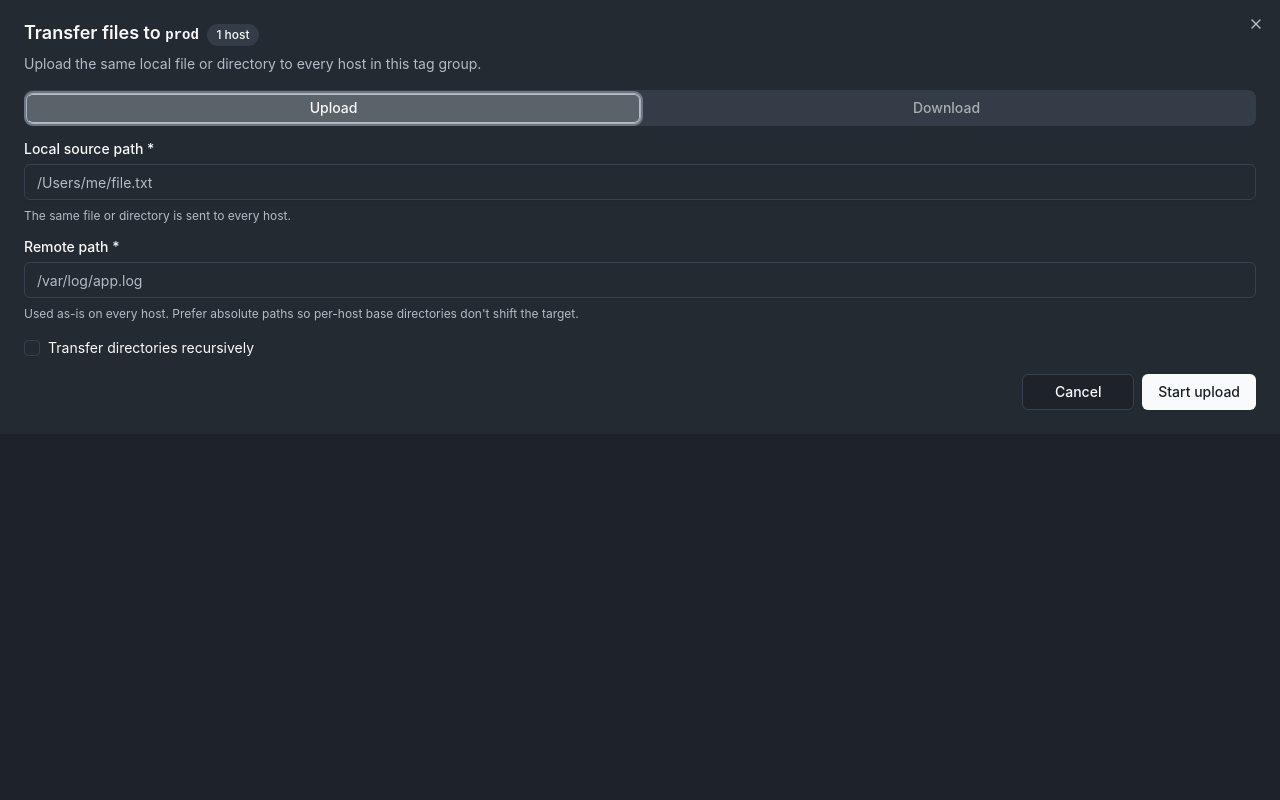
BulkScpDialog Stop › keeps the usual summary when nothing was stopped
Type "/l" into the field with test id "bulk-scp-local-path".
click(640, 182); type("/l")  # box [24,164,1256,200]
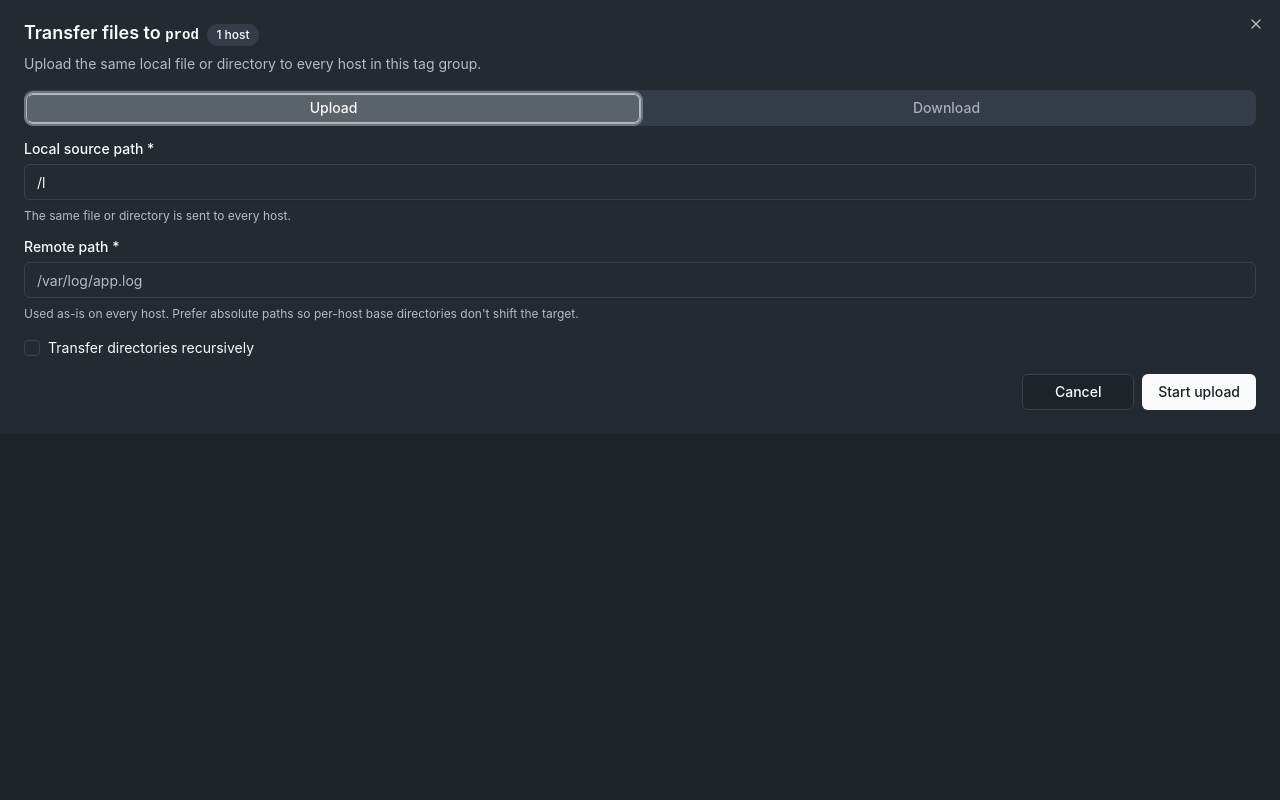
Type "/r" into the field with test id "bulk-scp-remote-path".
click(640, 280); type("/r")  # box [24,262,1256,298]
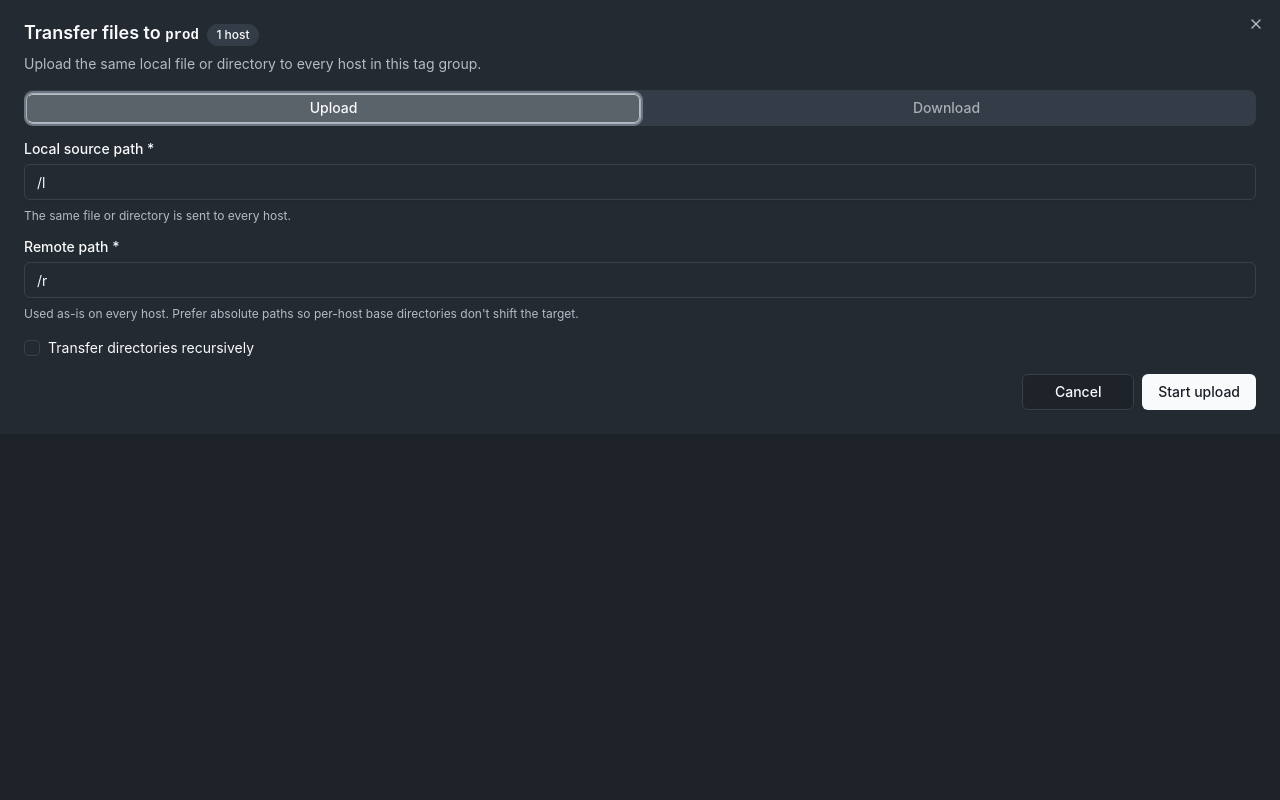
Click the button with test id "bulk-scp-start".
click(1199, 392)  # box [1142,374,1256,410]
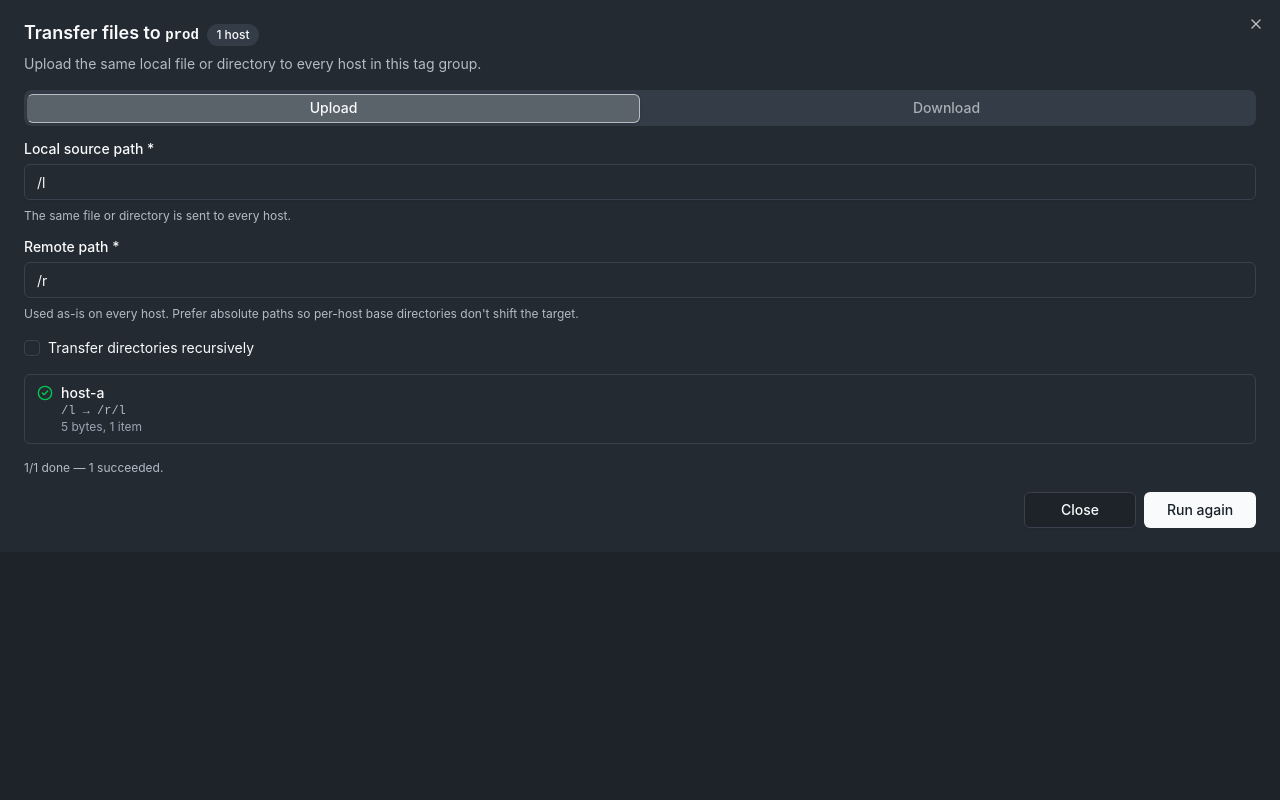
Expected: the text with test id "bulk-scp-summary" reads "1/1 done — 1 succeeded.", [24,460,163,475]
